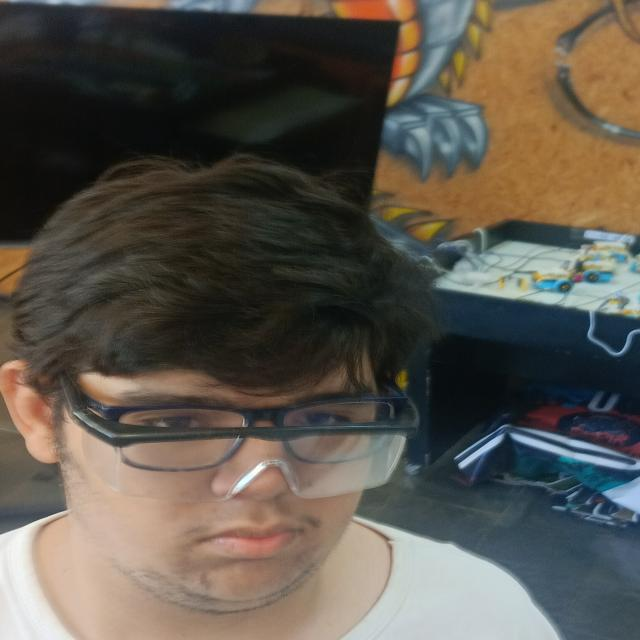oculos-epi: (47, 371, 430, 503)
